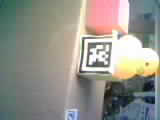duck: (102, 21, 154, 82)
